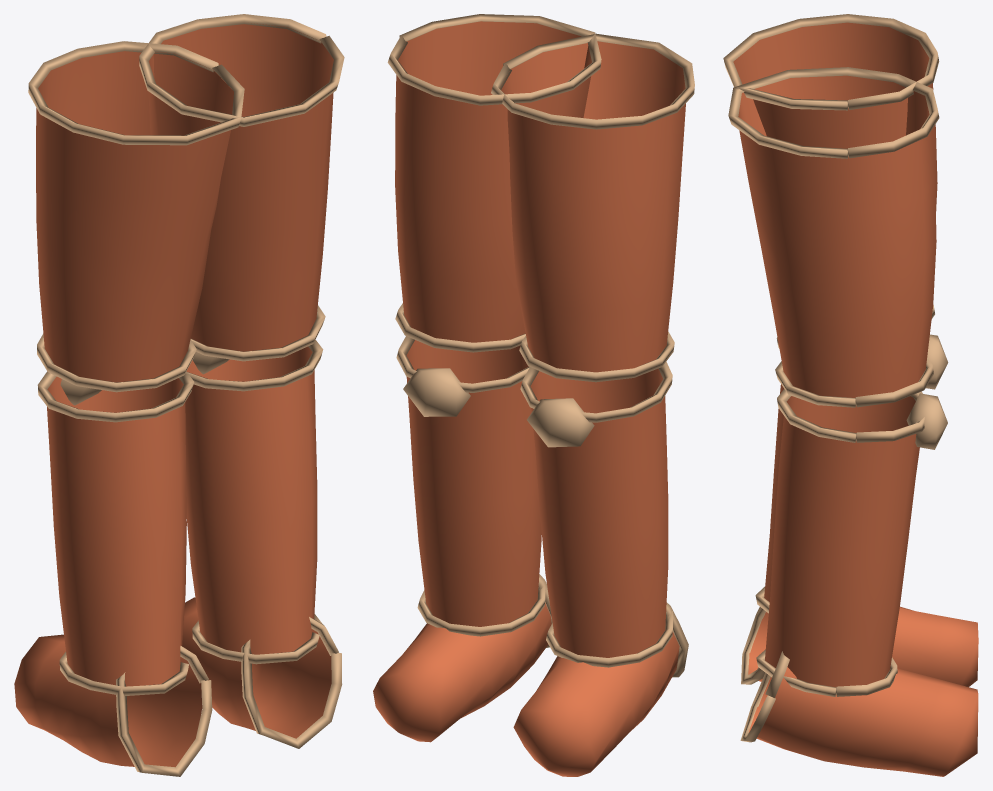
File: palladium_greaves.glb
3 views of the same model, side by side, from view 1: azimuth 30°, elevation 25°; view 2: azimuth 150°, elevation 25°; view 3: azimuth 270°, elevation 25° (orthographic). The views are drawn at different scales.
Parts seen in each view (by area): view 1: palladium_greaves_cuisse.L; view 2: palladium_greaves_cuisse.L; view 3: palladium_greaves_cuisse.L.
Boxes of the visible parts, bbox=[...] form: palladium_greaves_cuisse.L: bbox=[14, 14, 344, 776]; palladium_greaves_cuisse.L: bbox=[373, 14, 694, 776]; palladium_greaves_cuisse.L: bbox=[723, 14, 978, 776].
Bounding box in the file's own units: 0.4249 × 0.9563 × 0.3366.
